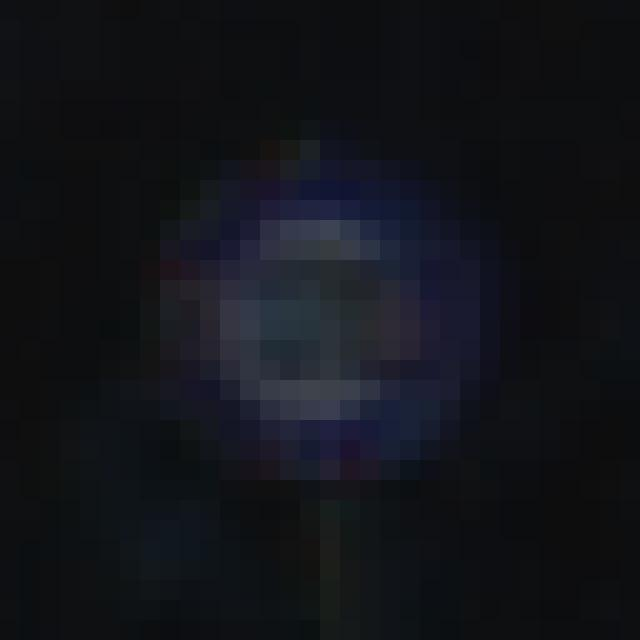SPEED LIMIT 120: (181, 183, 484, 468)
